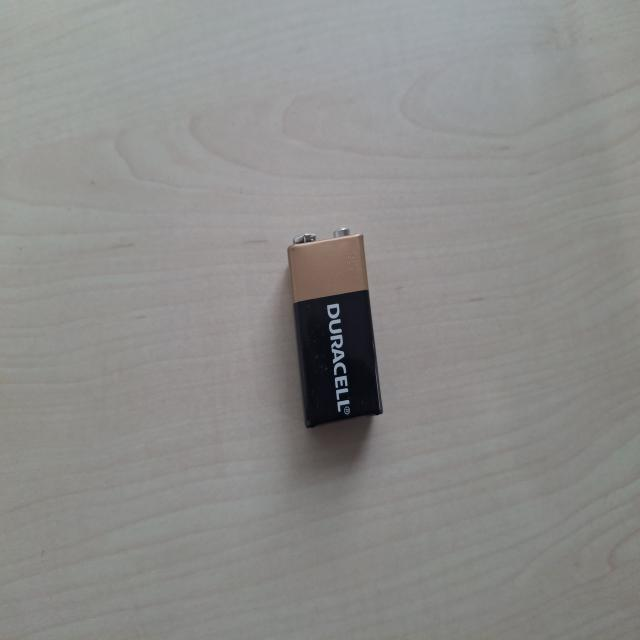9V: (160, 384, 308, 509)
